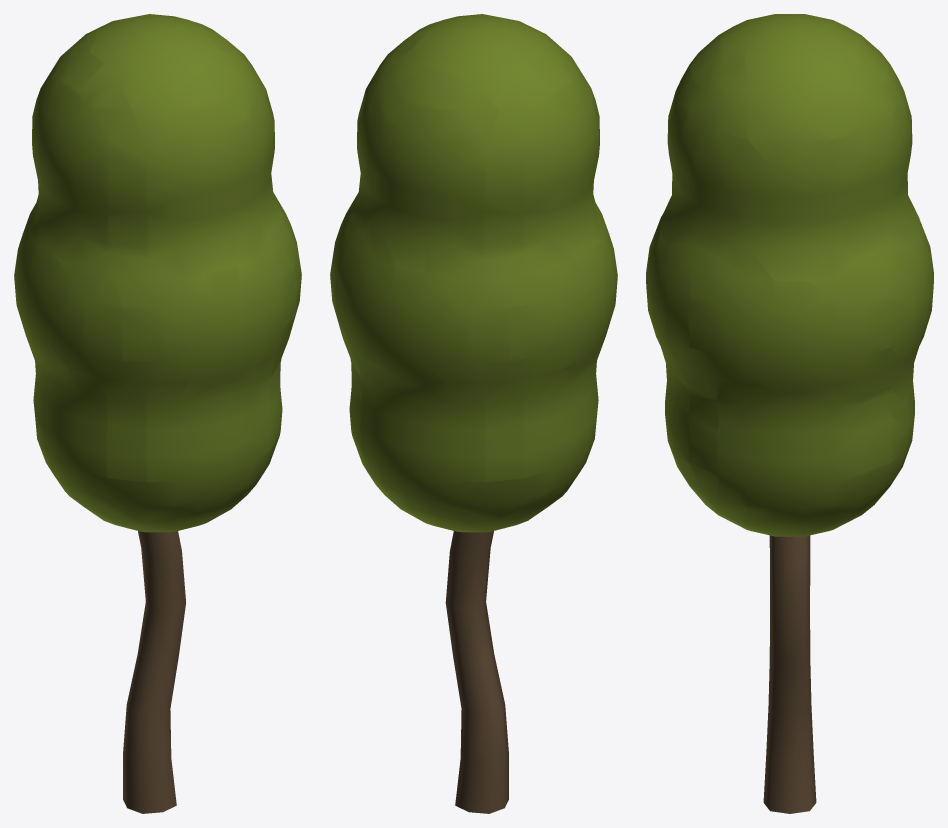
Rendered from Tree-QeYQEpgPcC.glb.
3 views of the same model, side by side, from view 1: azimuth 30°, elevation 25°; view 2: azimuth 150°, elevation 25°; view 3: azimuth 270°, elevation 25° (orthographic).
Parts seen in each view (by area): view 1: Tree_2; view 2: Tree_2; view 3: Tree_2.
Part boxes in pixels (x1,y1,x2,y2): Tree_2: [14, 14, 301, 813]; Tree_2: [330, 14, 617, 813]; Tree_2: [646, 14, 933, 813].
Bounding box in the file's own units: 2.08 × 6.22 × 2.08.
